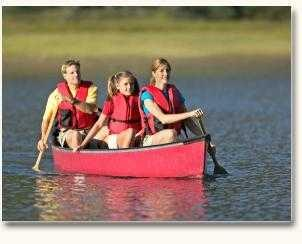kayak: (49, 137, 210, 178)
